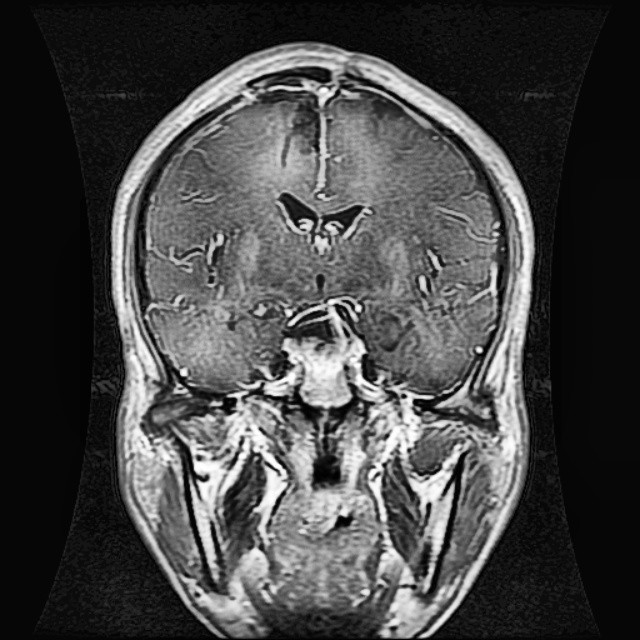Meningioma: (254, 90, 329, 164)
